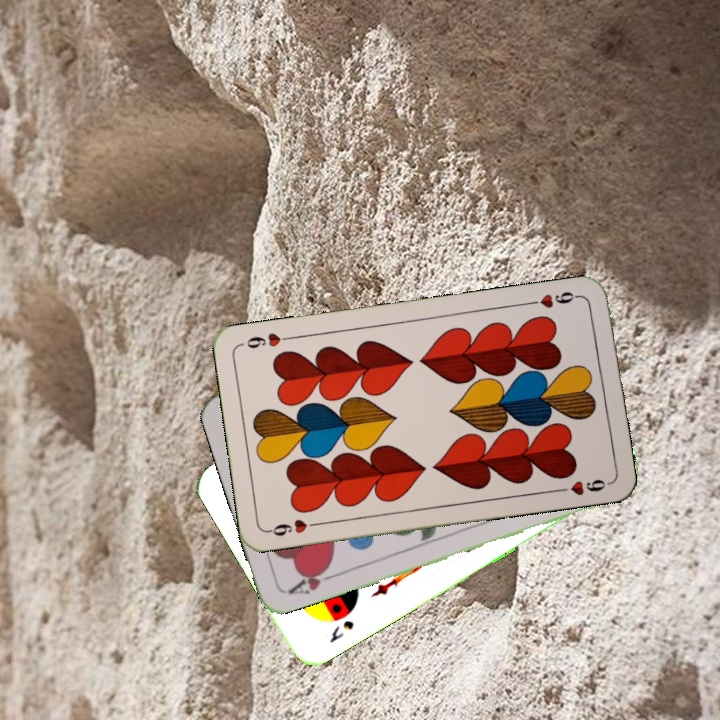H9: (264, 515, 323, 539), (525, 287, 584, 311)
HA: (284, 561, 340, 597)
SK: (325, 616, 357, 646)
